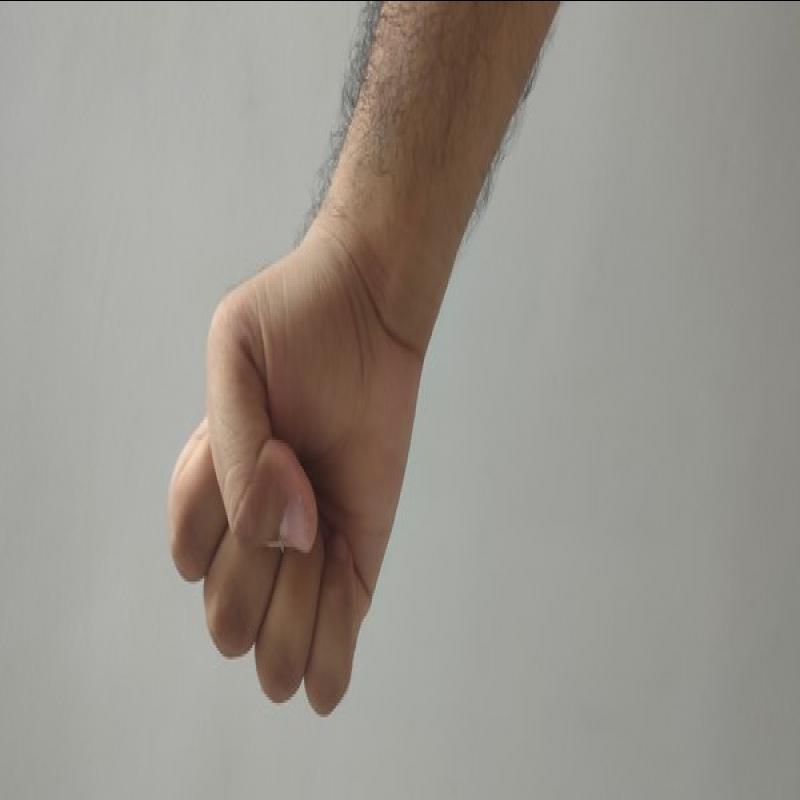Mushti: (152, 229, 445, 737)
